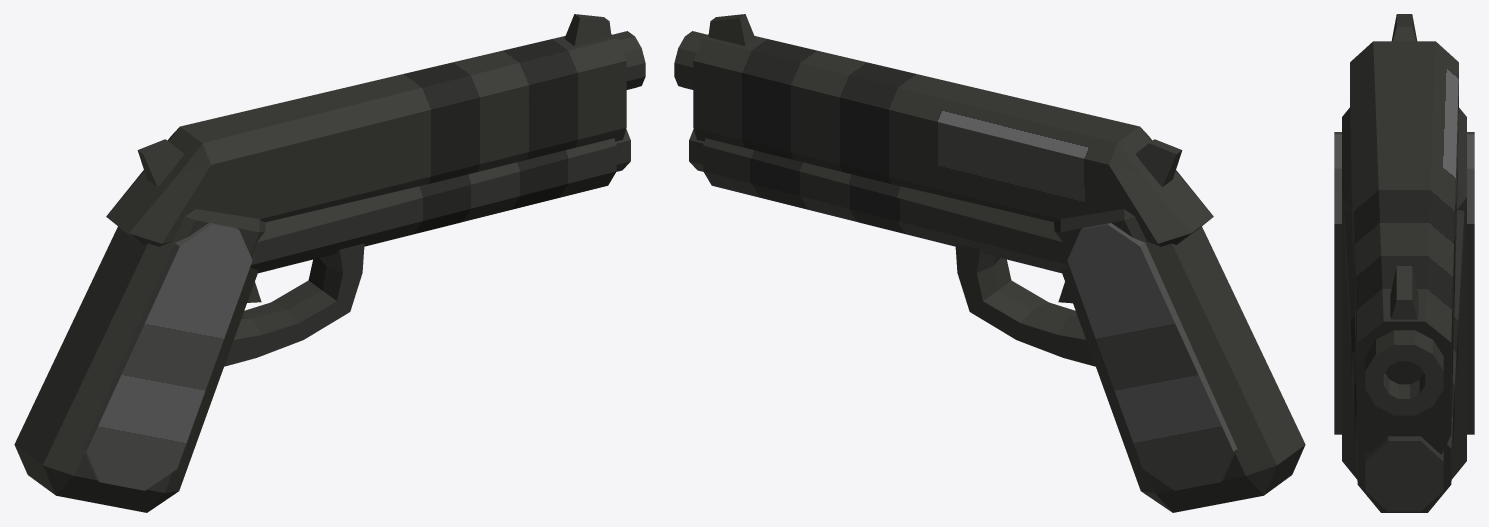
Rendered from gun.fbx.
3 views of the same model, side by side, from view 1: azimuth 30°, elevation 25°; view 2: azimuth 150°, elevation 25°; view 3: azimuth 270°, elevation 25° (orthographic). The views are drawn at different scales.
Parts seen in each view (by area): view 1: beveled_cuboid_2, beveled_cuboid_4, beveled_cuboid, beveled_cuboid_1, tube_1, cuboid_2, cuboid, tube; view 2: beveled_cuboid_2, beveled_cuboid_3, beveled_cuboid, beveled_cuboid_1, tube_1, cuboid_2, cuboid, tube; view 3: beveled_cuboid_2, beveled_cuboid, cylinder, tube, beveled_cuboid_1, beveled_cuboid_3, beveled_cuboid_4, cuboid, cuboid_2.
Boxes of the visible parts, bbox=[...] form: beveled_cuboid_2: bbox=[106, 34, 626, 246]; beveled_cuboid_4: bbox=[82, 223, 252, 490]; beveled_cuboid: bbox=[14, 209, 265, 512]; beveled_cuboid_1: bbox=[250, 138, 616, 273]; tube_1: bbox=[224, 243, 364, 366]; cuboid_2: bbox=[137, 139, 183, 186]; cuboid: bbox=[564, 14, 611, 46]; tube: bbox=[612, 31, 645, 89]; beveled_cuboid_2: bbox=[693, 34, 1213, 246]; beveled_cuboid_3: bbox=[1067, 223, 1237, 490]; beveled_cuboid: bbox=[1054, 209, 1305, 512]; beveled_cuboid_1: bbox=[703, 138, 1069, 273]; tube_1: bbox=[955, 243, 1095, 366]; cuboid_2: bbox=[1136, 139, 1182, 186]; cuboid: bbox=[708, 14, 755, 46]; tube: bbox=[674, 31, 707, 89]; beveled_cuboid_2: bbox=[1350, 41, 1458, 454]; beveled_cuboid: bbox=[1342, 107, 1466, 479]; cylinder: bbox=[1365, 436, 1443, 511]; tube: bbox=[1365, 330, 1443, 415]; beveled_cuboid_1: bbox=[1344, 210, 1464, 512]; beveled_cuboid_3: bbox=[1467, 132, 1474, 434]; beveled_cuboid_4: bbox=[1334, 132, 1341, 434]; cuboid: bbox=[1390, 266, 1418, 319]; cuboid_2: bbox=[1391, 14, 1417, 41].
Size of the model in its own units: 38.28 by 22.94 by 5.62.
Materials: 1 (1 with a texture image).
